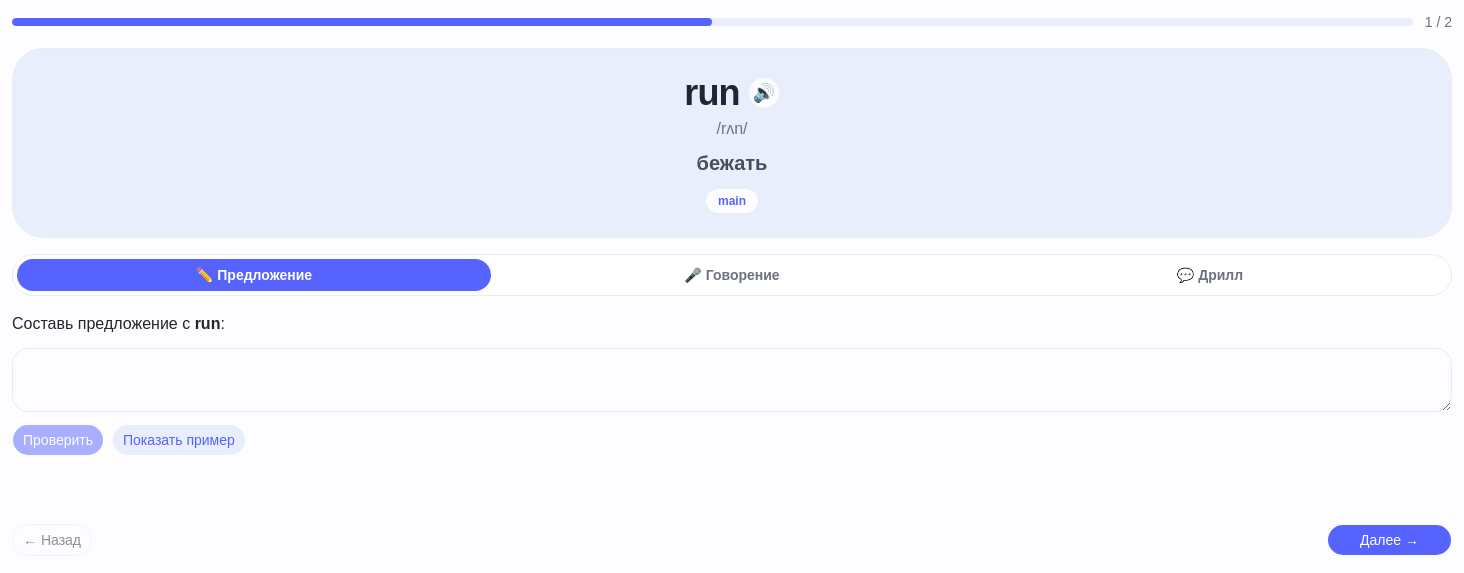
Test: PracticeSession › navigates back to the previous word
Expected: the 1st text "run" is shown, x1=684 y1=73 x2=740 y2=113
Click the button "Далее →" at point(1390, 540), box x1=1327 y1=524 x2=1452 y2=556
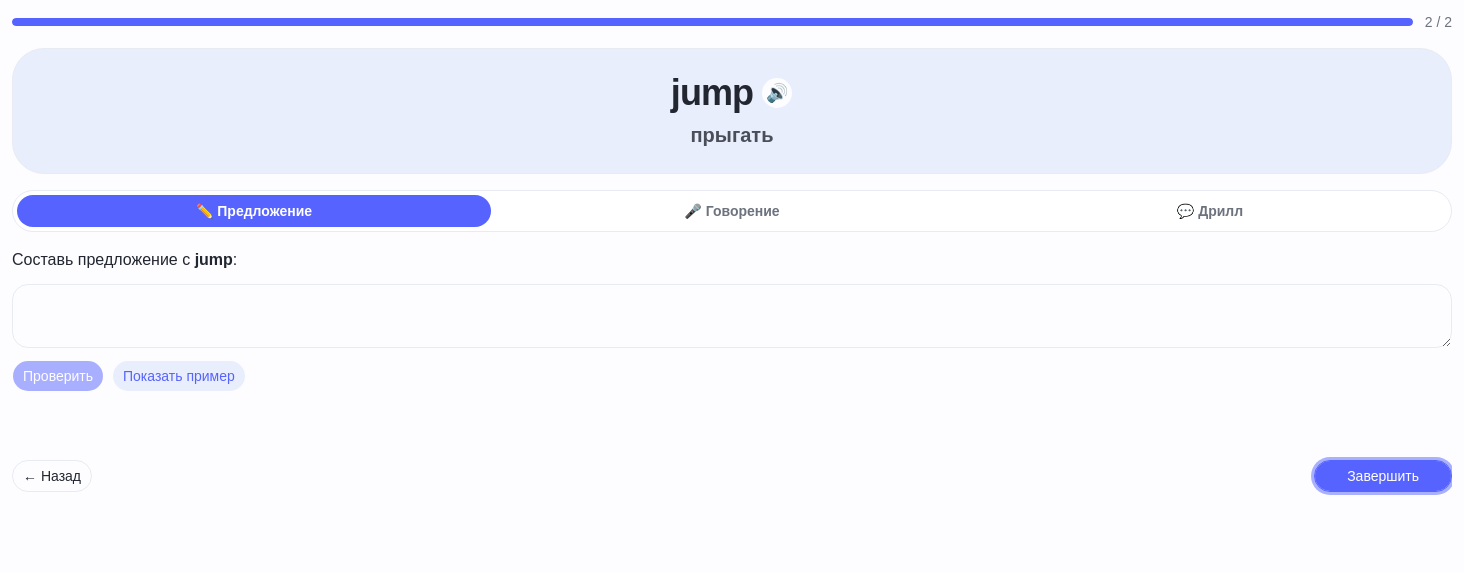
Now the 1st text "jump" is shown, box x1=671 y1=73 x2=753 y2=113
Click the button "← Назад" at point(52, 476), box x1=12 y1=460 x2=92 y2=492
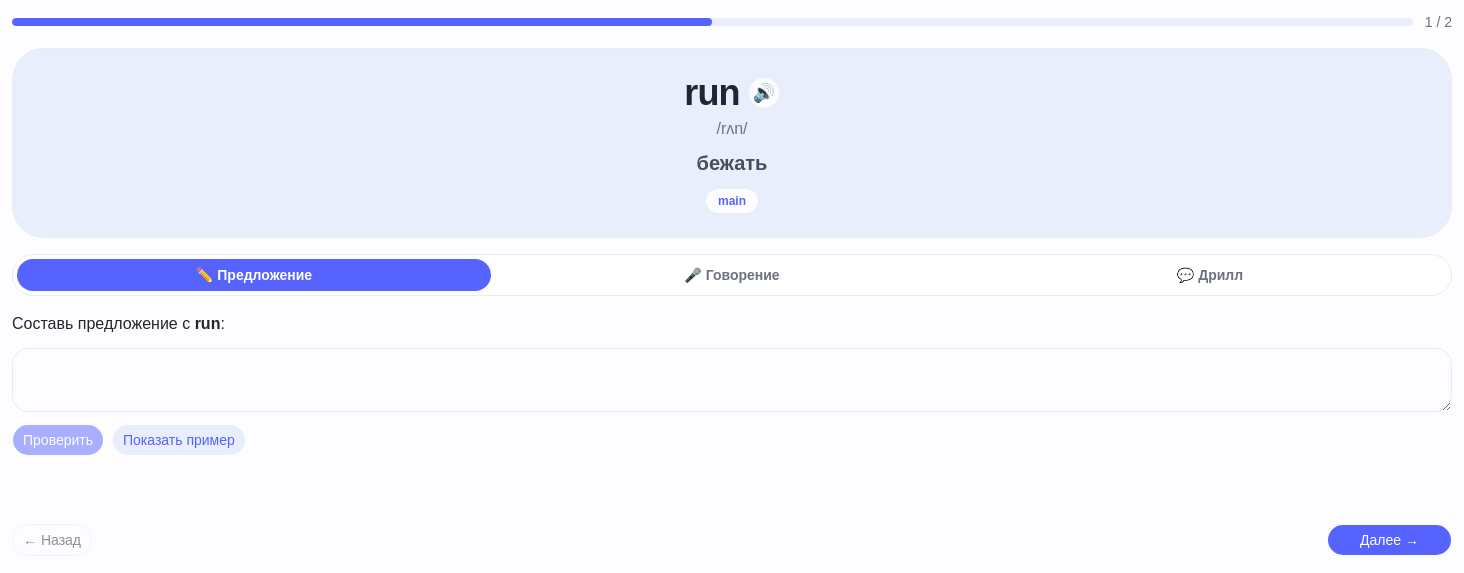
Now the 1st text "run" is shown, box x1=684 y1=73 x2=740 y2=113
